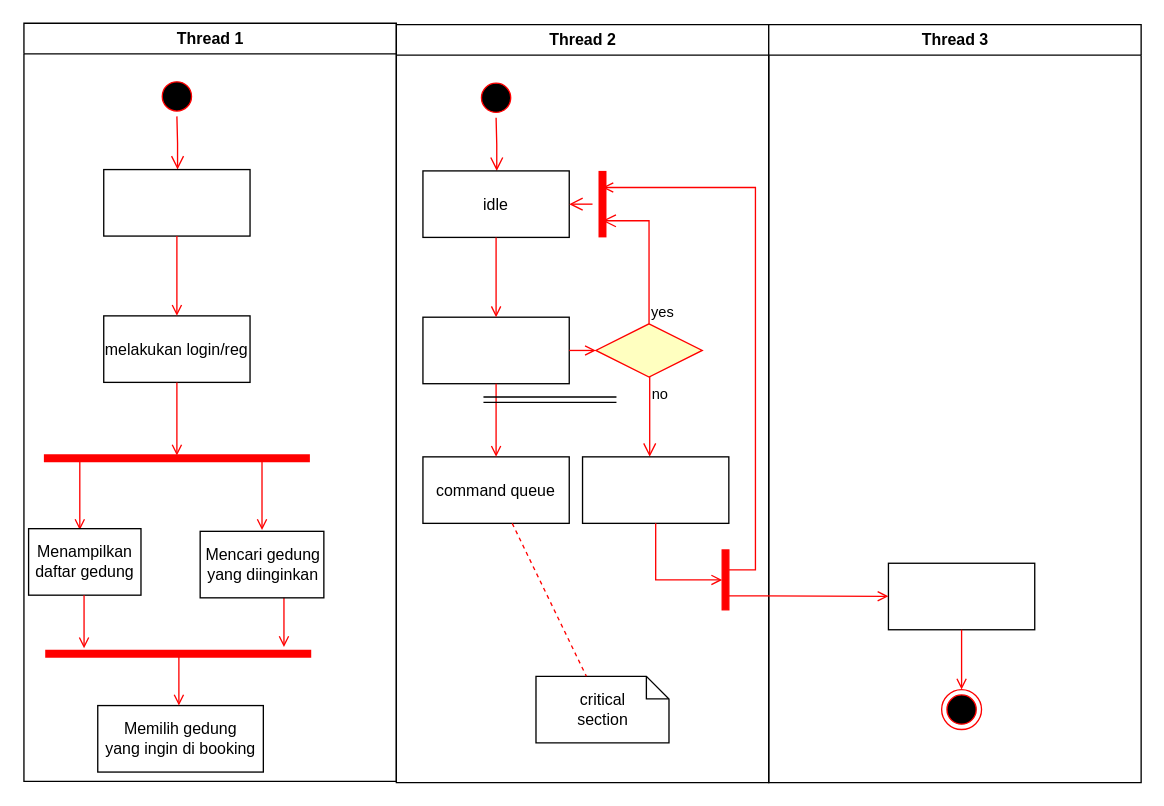
The diagram is 1164 pixels wide and 806 high, and some of its shapes have lost their labels. Each missing label, with the centre of its shape:
"check for new commands" goes at (495,350).
"dispatch command worker thread" goes at (655,489).
"Membuka Aplikasi" goes at (176,202).
"process command" goes at (961,596).
"queue empty" goes at (648,350).
